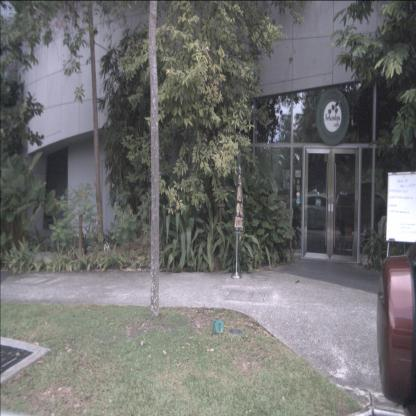vehicle-car: (333, 188, 396, 236), (283, 190, 344, 232)
